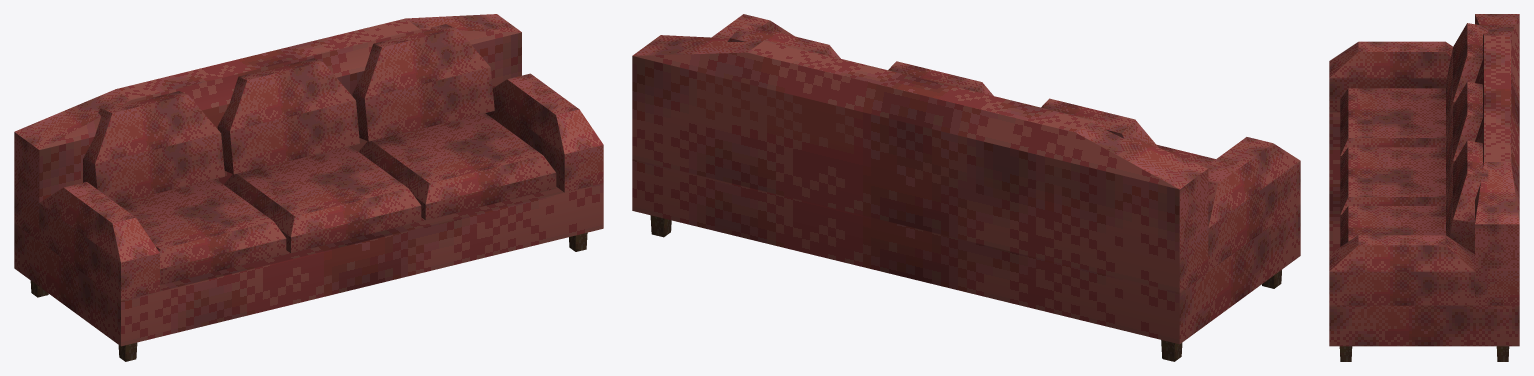
The model's file is sofa_red.glb.
3 renders of one model, left to right at view 1: azimuth 30°, elevation 25°; view 2: azimuth 150°, elevation 25°; view 3: azimuth 270°, elevation 25°, orthographic. The views are drawn at different scales.
Parts seen in each view (by area): view 1: sofa_red; view 2: sofa_red; view 3: sofa_red.
Part boxes in pixels (bbox=[...]): sofa_red: bbox=[14, 14, 603, 361]; sofa_red: bbox=[632, 14, 1300, 361]; sofa_red: bbox=[1329, 14, 1519, 361].
Bounding box in the file's own units: 2.22 × 0.8029 × 0.85.
1 material, 1 textured.
